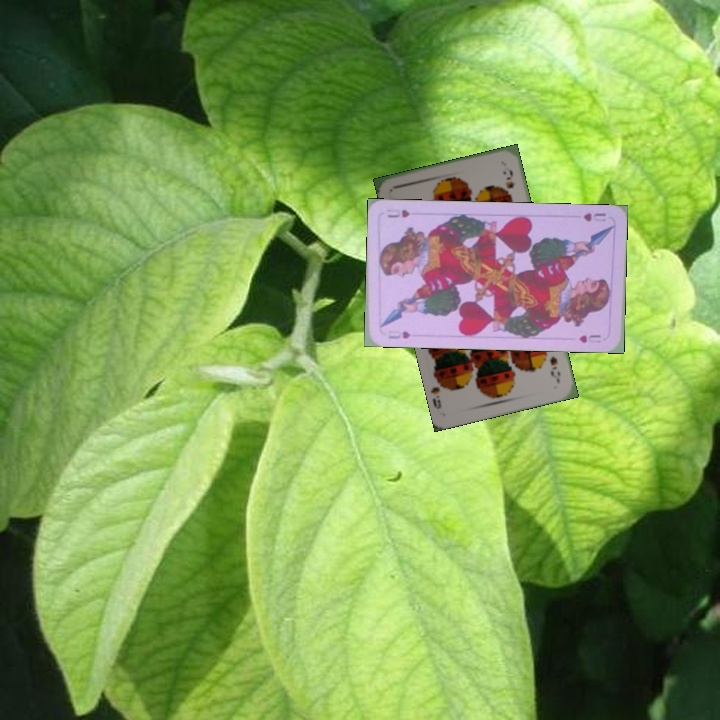HU: (579, 209, 608, 224), (385, 327, 413, 341)
S9: (546, 352, 563, 385)
